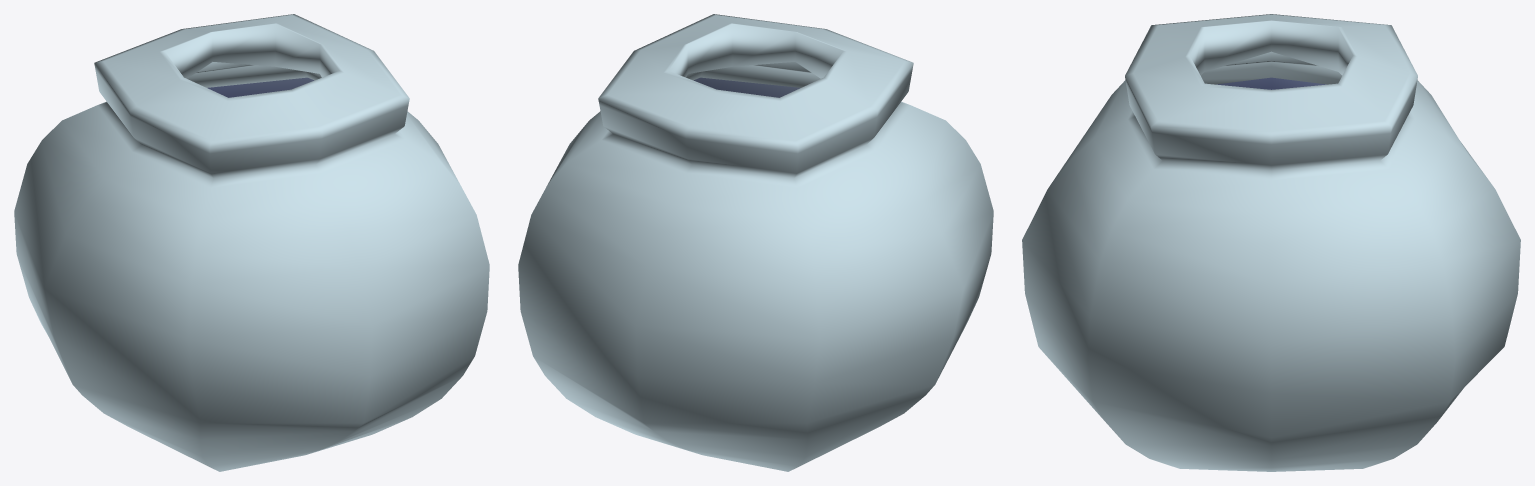
The model's file is props_aquarium.fbx.
3 views of the same model, side by side, from view 1: azimuth 30°, elevation 25°; view 2: azimuth 150°, elevation 25°; view 3: azimuth 270°, elevation 25° (orthographic). The views are drawn at different scales.
Parts seen in each view (by area): view 1: bocale_aquarium; view 2: bocale_aquarium; view 3: bocale_aquarium.
Part boxes in pixels (x1=…): bocale_aquarium: x1=14, y1=14, x2=489, y2=471; bocale_aquarium: x1=518, y1=14, x2=993, y2=471; bocale_aquarium: x1=1022, y1=14, x2=1520, y2=471.
Size of the model in its own units: 70.25 by 59.1 by 70.25.
